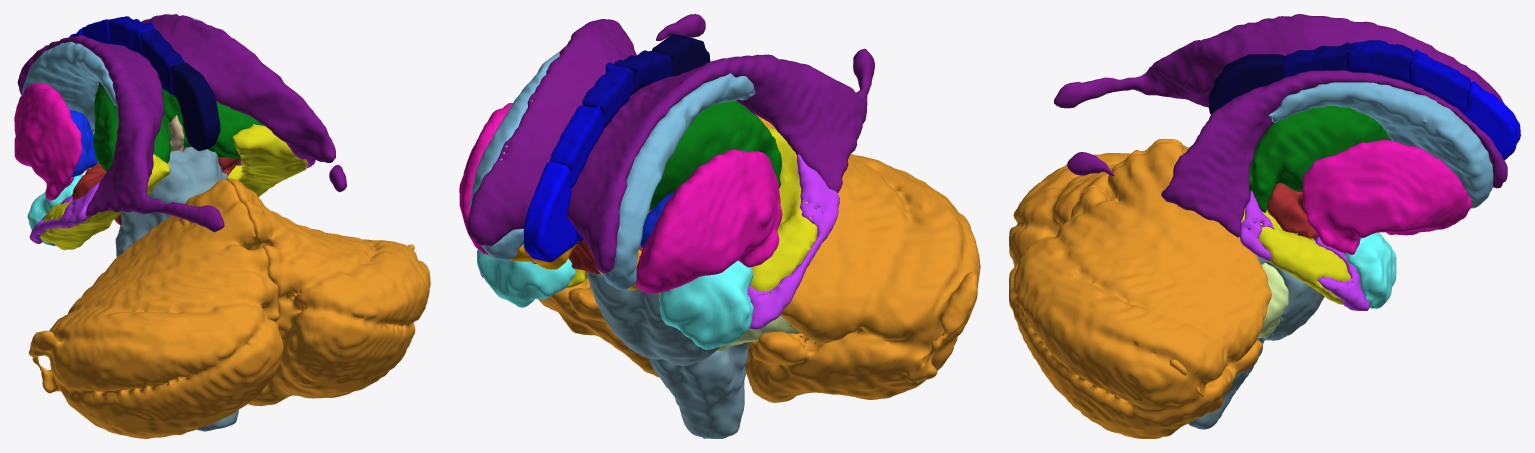
File: structures.glb
3 renders of one model, left to right at view 1: azimuth 30°, elevation 25°; view 2: azimuth 150°, elevation 25°; view 3: azimuth 270°, elevation 25°, orthographic. The views are drawn at different scales.
Visible parts, largest first — view 1: aseg:left:8, aseg:right:47, aseg:right:43, aseg:left:4, aseg:left:12, aseg:midline:16, aseg:left:11, aseg:right:53, aseg:midline:251, aseg:left:10, aseg:left:17, aseg:right:49 (+8 smaller); view 2: aseg:left:8, aseg:left:4, aseg:left:12, aseg:right:43, aseg:midline:16, aseg:left:11, aseg:left:18, aseg:left:10, aseg:left:17, aseg:left:5, aseg:midline:255, aseg:right:54 (+11 smaller); view 3: aseg:right:47, aseg:right:51, aseg:right:43, aseg:left:4, aseg:right:50, aseg:right:49, aseg:left:8, aseg:right:53, aseg:midline:16, aseg:right:44, aseg:midline:251, aseg:right:54 (+6 smaller).
Part boxes in pixels (left/top/right/bottom): aseg:left:8: left=28, top=179, right=283, bottom=438; aseg:right:47: left=226, top=178, right=430, bottom=406; aseg:right:43: left=141, top=14, right=346, bottom=192; aseg:left:4: left=17, top=35, right=224, bottom=232; aseg:left:12: left=14, top=83, right=82, bottom=200; aseg:midline:16: left=115, top=146, right=238, bottom=431; aseg:left:11: left=22, top=41, right=117, bottom=131; aseg:right:53: left=228, top=124, right=307, bottom=196; aseg:midline:251: left=171, top=63, right=220, bottom=150; aseg:left:10: left=93, top=82, right=171, bottom=171; aseg:left:17: left=39, top=154, right=170, bottom=250; aseg:right:49: left=162, top=88, right=263, bottom=158; aseg:left:8: left=745, top=114, right=980, bottom=402; aseg:left:4: left=567, top=48, right=874, bottom=272; aseg:left:12: left=635, top=149, right=782, bottom=293; aseg:right:43: left=467, top=14, right=705, bottom=246; aseg:midline:16: left=588, top=272, right=749, bottom=438; aseg:left:11: left=603, top=73, right=755, bottom=289; aseg:left:18: left=659, top=260, right=753, bottom=349; aseg:left:10: left=649, top=100, right=781, bottom=210; aseg:left:17: left=658, top=126, right=818, bottom=301; aseg:left:5: left=747, top=154, right=839, bottom=329; aseg:midline:255: left=523, top=161, right=577, bottom=262; aseg:right:54: left=477, top=249, right=575, bottom=307; aseg:right:47: left=1009, top=142, right=1271, bottom=438; aseg:right:51: left=1302, top=139, right=1471, bottom=254; aseg:right:43: left=1067, top=70, right=1507, bottom=237; aseg:left:4: left=1054, top=14, right=1504, bottom=108; aseg:right:50: left=1268, top=82, right=1493, bottom=208; aseg:right:49: left=1249, top=105, right=1391, bottom=212; aseg:left:8: left=1009, top=139, right=1188, bottom=266; aseg:right:53: left=1241, top=208, right=1351, bottom=304; aseg:midline:16: left=1188, top=232, right=1324, bottom=429; aseg:right:44: left=1239, top=190, right=1369, bottom=310; aseg:midline:251: left=1209, top=54, right=1284, bottom=114; aseg:right:54: left=1343, top=232, right=1396, bottom=308.
Bounding box in the file's own units: 0.109 × 0.0955 × 0.1152.
